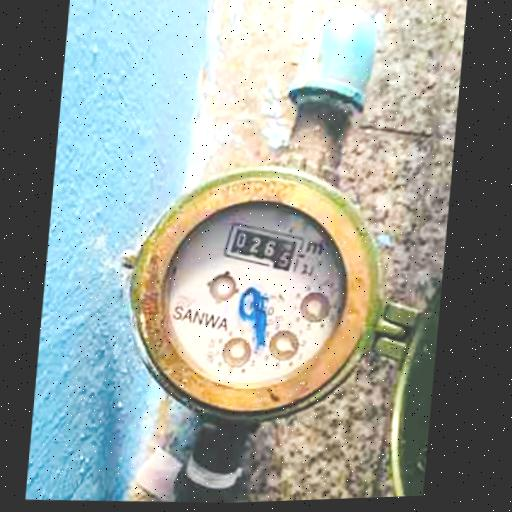0: (230, 227, 250, 255)
2: (243, 231, 265, 259)
5: (271, 238, 297, 272)
6: (257, 233, 280, 262)
border_water_meter_number: (220, 218, 309, 276)
